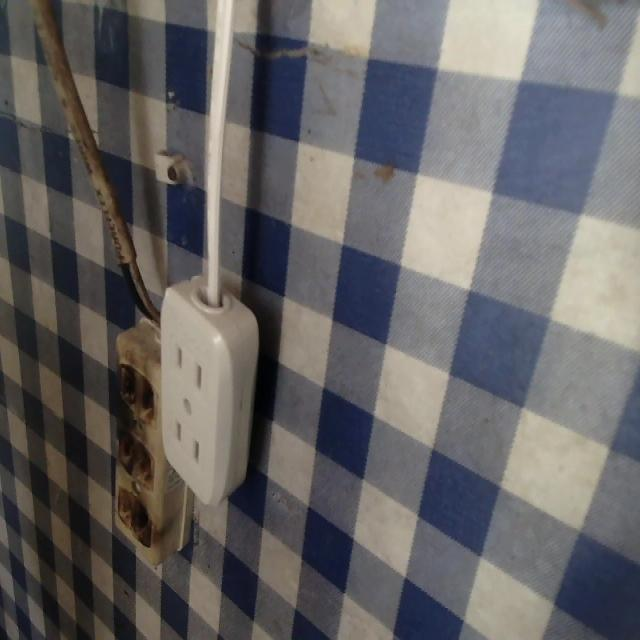-: (107, 488, 156, 544), (118, 355, 157, 424), (114, 424, 157, 485)
